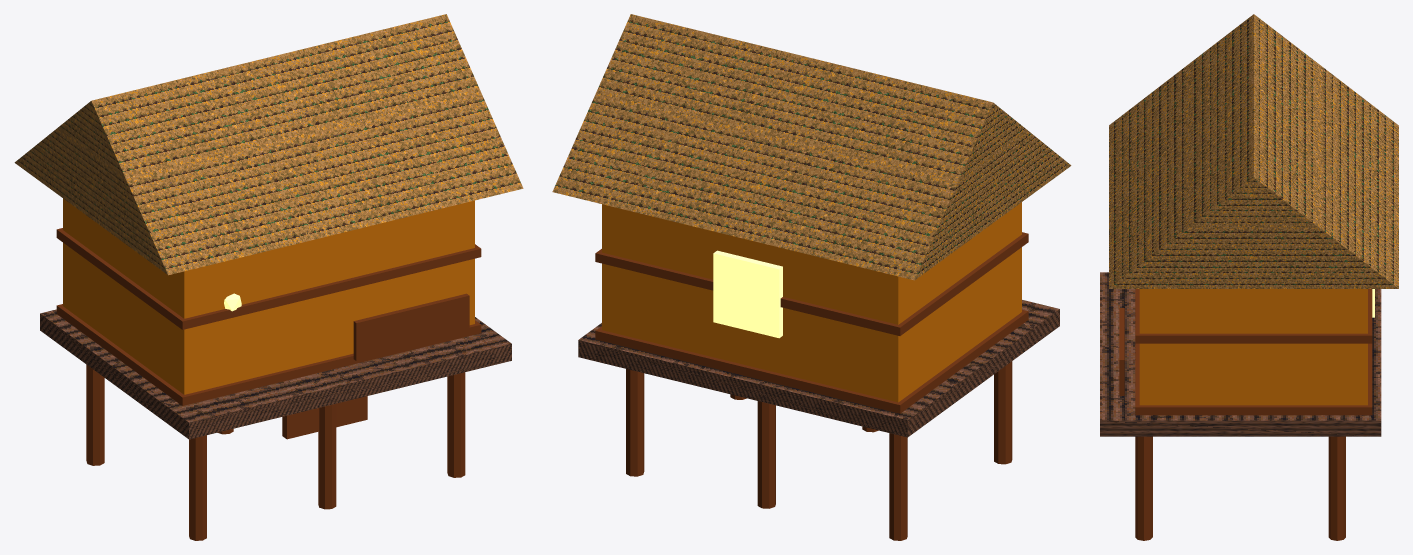
Rendered from casa_juncos.glb.
3 views of the same model, side by side, from view 1: azimuth 30°, elevation 25°; view 2: azimuth 150°, elevation 25°; view 3: azimuth 270°, elevation 25° (orthographic). The views are drawn at different scales.
Parts seen in each view (by area): view 1: Juncos_Techo, Cube.001, Cube, Cube.003, Cube.006, Cube.002, Cylinder.004, Cylinder.002, Cylinder, Cylinder.001, Cube.005; view 2: Juncos_Techo, Cube.001, Cube, Cube.002, Cube.007, Cube.003, Cylinder.001, Cylinder.003, Cylinder.005, Cylinder; view 3: Juncos_Techo, Cube.001, Cube, Cube.002, Cube.003, Cylinder.004, Cylinder.005, Cube.006.
Boxes of the visible parts, left/top/right/bottom form: Juncos_Techo: left=14, top=14, right=523, bottom=275; Cube.001: left=63, top=198, right=474, bottom=394; Cube: left=40, top=309, right=511, bottom=439; Cube.003: left=56, top=228, right=481, bottom=329; Cube.006: left=353, top=293, right=469, bottom=361; Cube.002: left=56, top=304, right=481, bottom=405; Cylinder.004: left=447, top=372, right=465, bottom=477; Cylinder.002: left=318, top=404, right=336, bottom=509; Cylinder: left=189, top=435, right=206, bottom=540; Cylinder.001: left=86, top=364, right=104, bottom=465; Cube.005: left=282, top=396, right=367, bottom=439; Juncos_Techo: left=552, top=14, right=1071, bottom=280; Cube.001: left=602, top=202, right=1021, bottom=402; Cube: left=578, top=300, right=1059, bottom=437; Cube.002: left=595, top=309, right=1028, bottom=413; Cube.007: left=713, top=250, right=782, bottom=338; Cube.003: left=595, top=232, right=1028, bottom=335; Cylinder.001: left=889, top=433, right=907, bottom=540; Cylinder.003: left=757, top=401, right=775, bottom=508; Cylinder.005: left=626, top=369, right=644, bottom=476; Cylinder: left=994, top=361, right=1012, bottom=464; Juncos_Techo: left=1109, top=14, right=1398, bottom=288; Cube.001: left=1139, top=289, right=1367, bottom=405; Cube: left=1100, top=272, right=1381, bottom=436; Cube.002: left=1135, top=343, right=1372, bottom=415; Cube.003: left=1135, top=289, right=1372, bottom=343; Cylinder.004: left=1135, top=436, right=1152, bottom=540; Cylinder.005: left=1328, top=436, right=1345, bottom=540; Cube.006: left=1119, top=308, right=1124, bottom=395.
Bounding box in the file's own units: 4.4 × 4.8 × 3.4.
5 materials, 2 textured.
